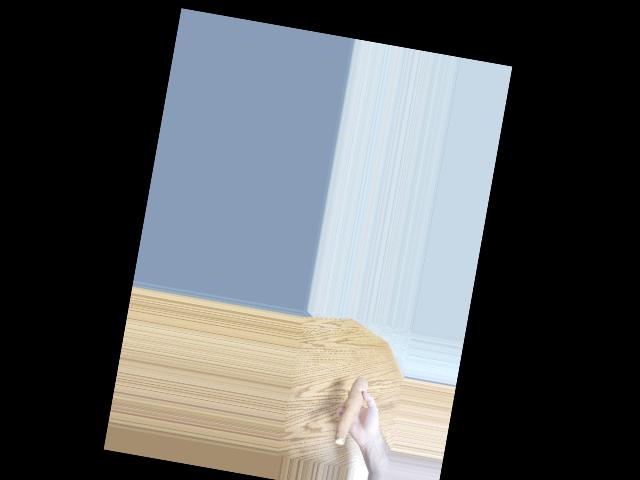sweet_potato: (334, 370, 367, 445)
